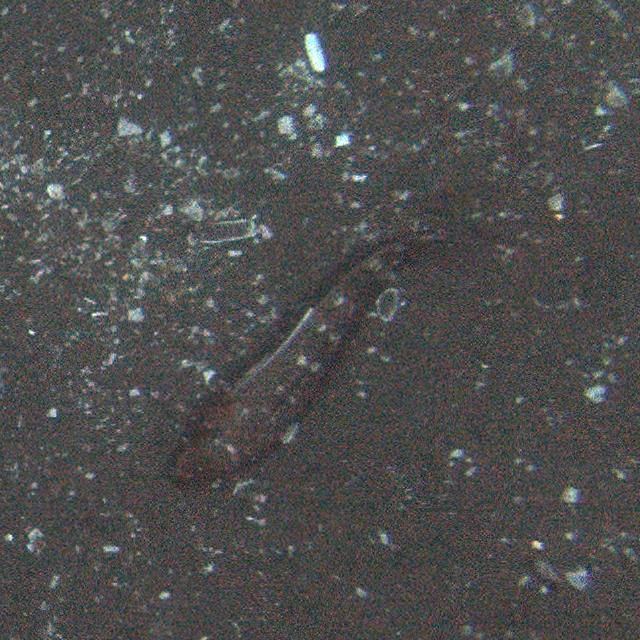roundfish: (168, 226, 480, 486)
